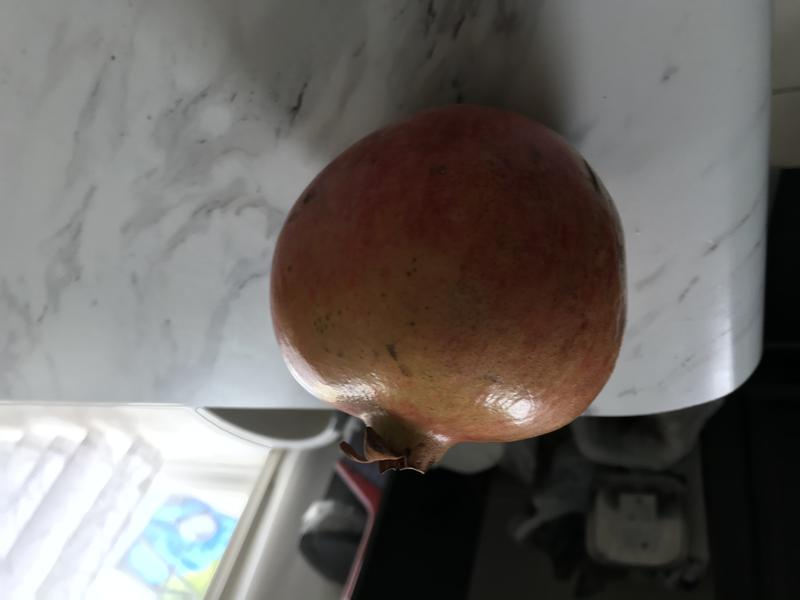pomegranate: (256, 92, 644, 500)
